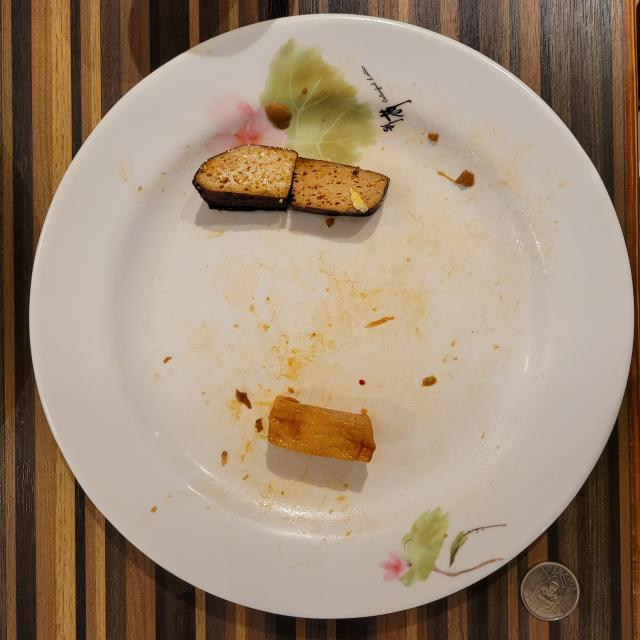coin: (521, 561, 580, 620)
creamy tofu: (268, 395, 375, 462)
firm tofu: (192, 145, 389, 216)
